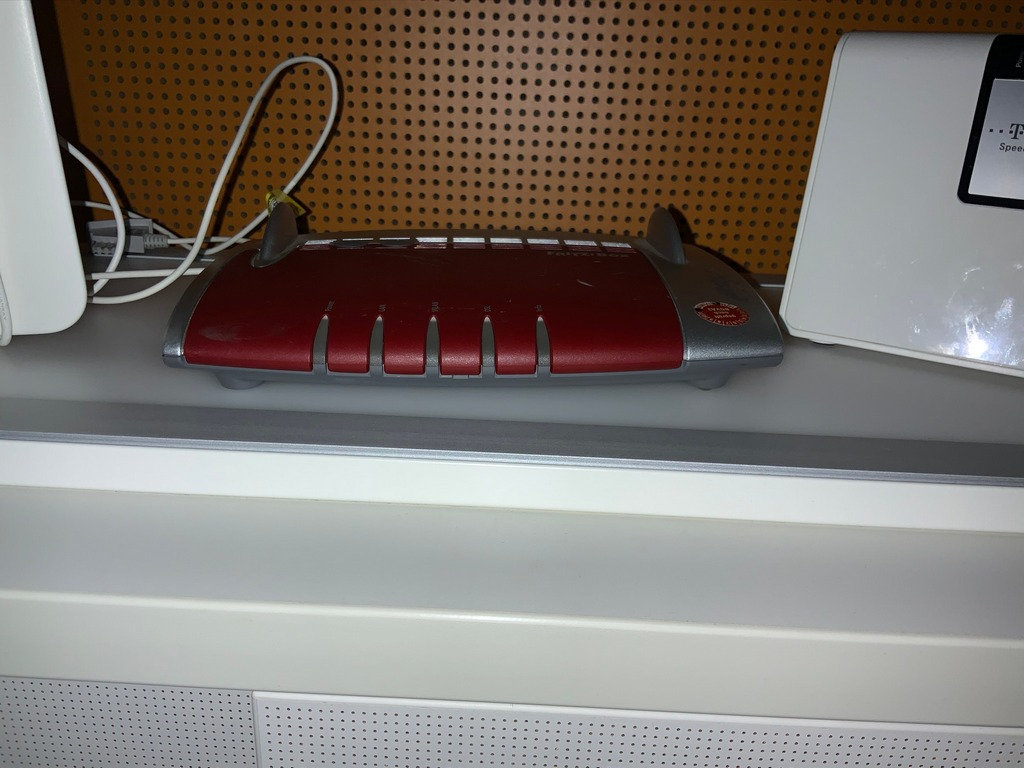Router2: (773, 16, 1024, 377)
router3: (165, 202, 784, 398)
